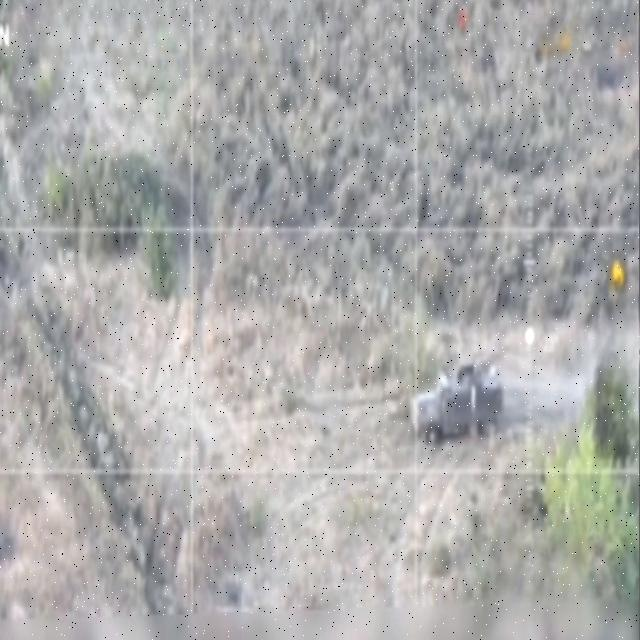Vehicle: (412, 362, 504, 448)
